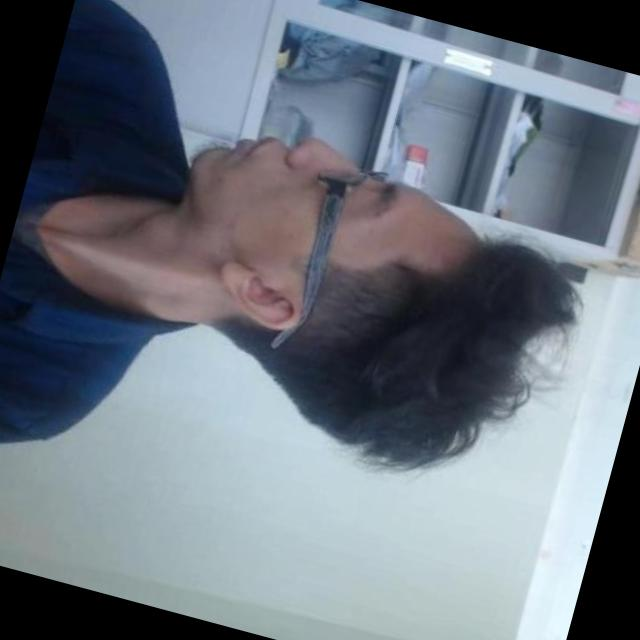bareface: (101, 53, 624, 510)
